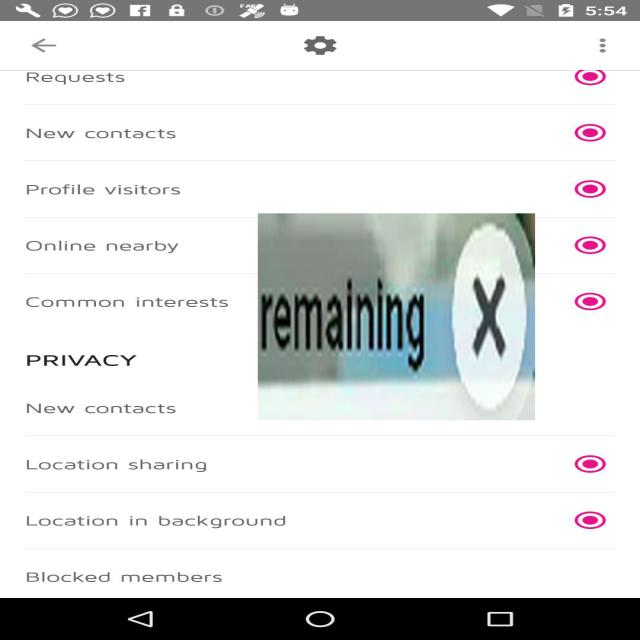misdirection: (258, 214, 535, 420)
